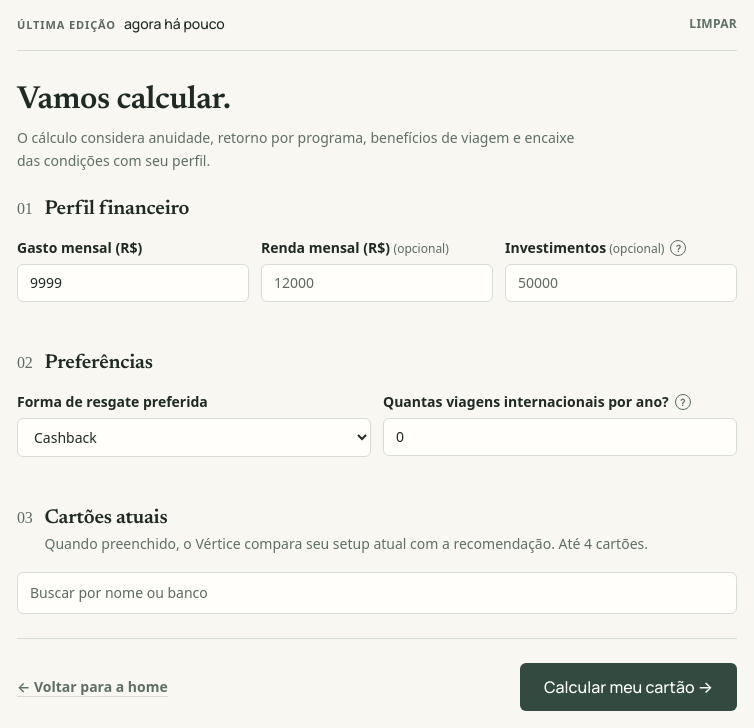
Scenario: InputForm › clears the saved profile when Limpar is clicked
This screenshot has width=754, height=728.
Expected: the text "Última edição" is shown, [17,17,116,32]
Click the button "Limpar". click: (713, 24)
box: [689,16,737,32]
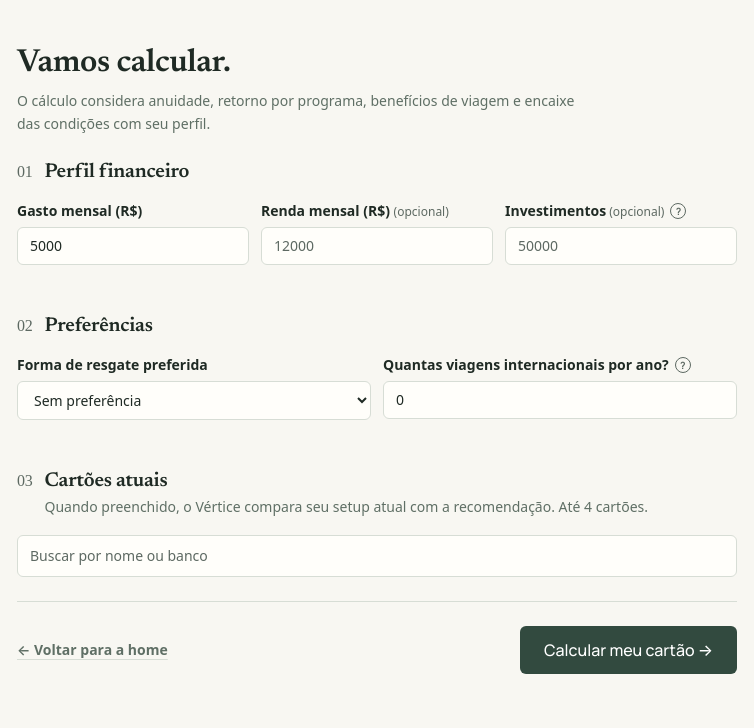
Expected: the text "Última edição" is gone
Expected: the number field labelled "Gasto mensal (R$)" holds "5000", [17,227,249,265]
